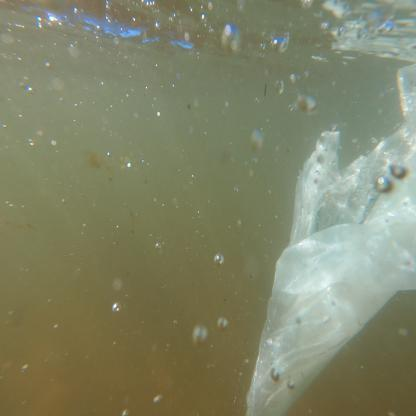Rác: (246, 71, 414, 411)
